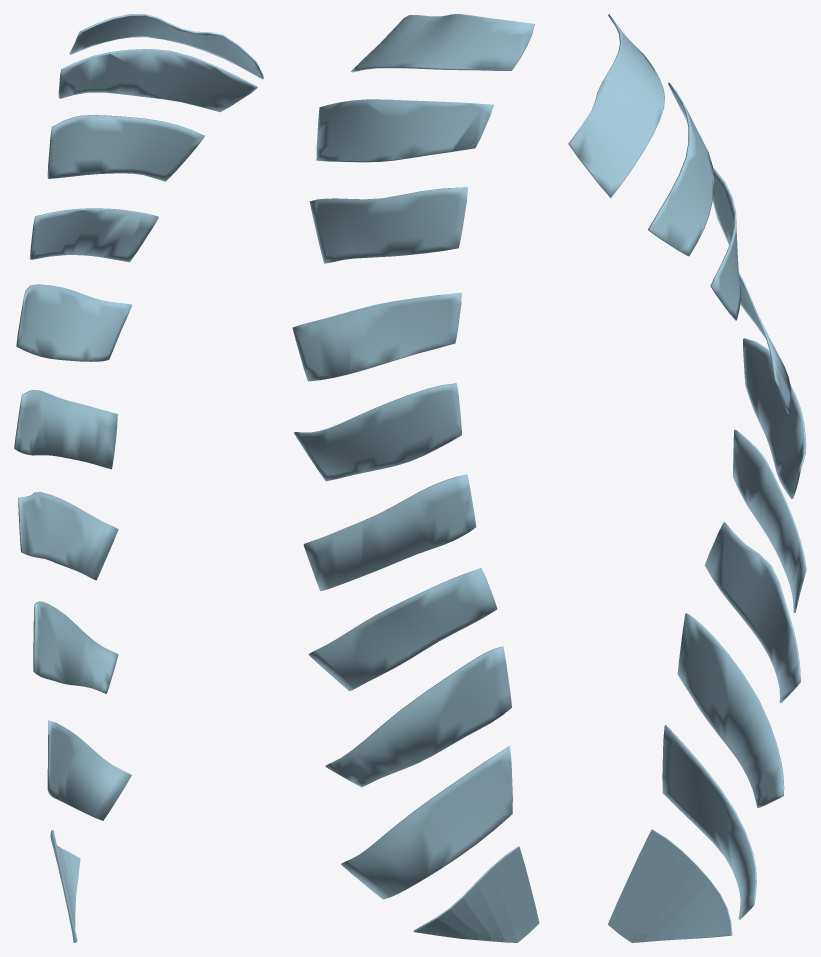
File: articulacoes-internal-intercostal-membrane-l.glb
3 views of the same model, side by side, from view 1: azimuth 30°, elevation 25°; view 2: azimuth 150°, elevation 25°; view 3: azimuth 270°, elevation 25° (orthographic).
Visible parts, largest first — view 1: Internal intercostal membrane.l; view 2: Internal intercostal membrane.l; view 3: Internal intercostal membrane.l.
Boxes of the visible parts, x1=… form: Internal intercostal membrane.l: x1=14, y1=14, x2=263, y2=942; Internal intercostal membrane.l: x1=292, y1=14, x2=539, y2=942; Internal intercostal membrane.l: x1=568, y1=14, x2=806, y2=942.
Bounding box in the file's own units: 0.0668 × 0.2807 × 0.0655.
